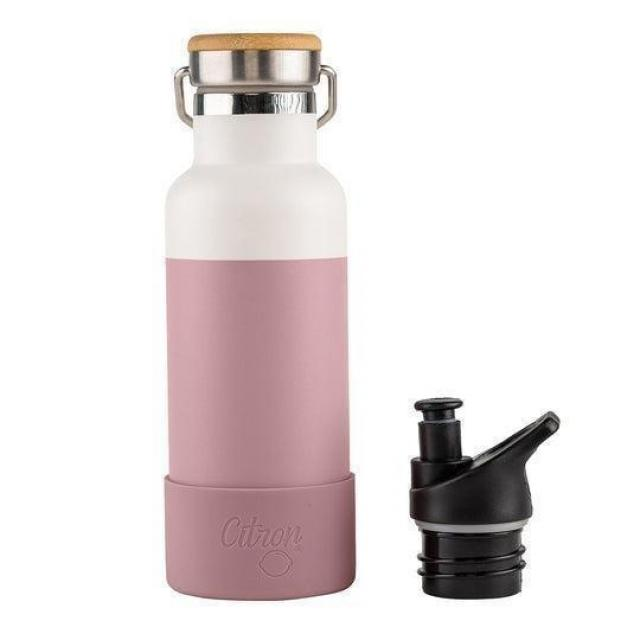gym bottle: (160, 23, 359, 606)
